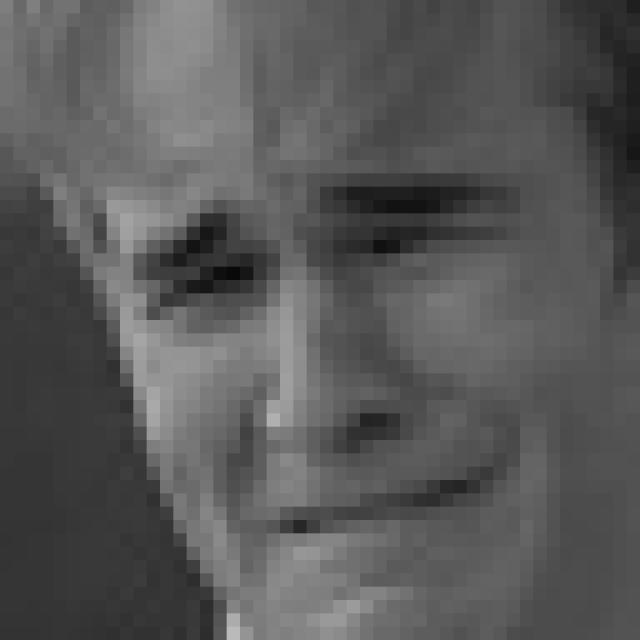sad: (120, 154, 546, 592)
